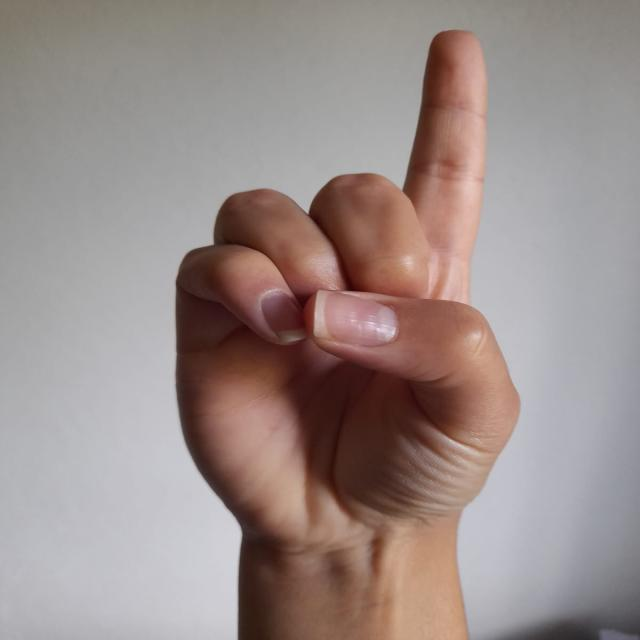D2: (160, 16, 536, 532)
